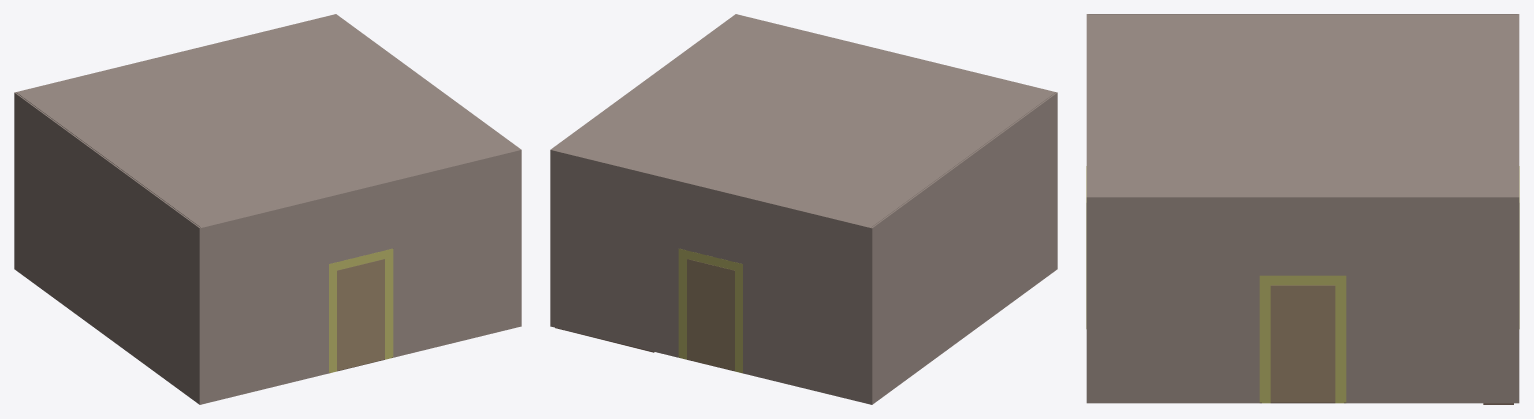
File: Room23_GameRoom.fbx
3 views of the same model, side by side, from view 1: azimuth 30°, elevation 25°; view 2: azimuth 150°, elevation 25°; view 3: azimuth 270°, elevation 25° (orthographic). The views are drawn at different scales.
Parts seen in each view (by area): view 1: Roof, WallSlicedPosZ, WallPosX, DoorPosZ, DoorFramePosZ, WallSlicedNegX; view 2: Roof, WallSlicedNegZ, WallPosX, DoorNegZ, DoorFrameNegZ, WallSlicedNegX; view 3: WallSlicedNegX, Roof, DoorNegX, DoorFrameNegX, WallSlicedNegZ, WallSlicedPosZ, WallPosX.
Boxes of the visible parts, x1,y1,x2,y2 form: Roof: (17, 15, 519, 227); WallSlicedPosZ: (200, 149, 521, 404); WallPosX: (14, 92, 201, 404); DoorPosZ: (337, 259, 384, 370); DoorFramePosZ: (329, 248, 393, 372); WallSlicedNegX: (336, 14, 521, 326); Roof: (552, 15, 1054, 227); WallSlicedNegZ: (550, 149, 871, 404); WallPosX: (871, 92, 1057, 404); DoorNegZ: (687, 259, 734, 370); DoorFrameNegZ: (678, 248, 742, 372); WallSlicedNegX: (550, 14, 735, 326); WallSlicedNegX: (1086, 196, 1519, 403); Roof: (1088, 15, 1517, 196); DoorNegX: (1270, 285, 1335, 402); DoorFrameNegX: (1259, 275, 1346, 403); WallSlicedNegZ: (1516, 14, 1519, 403); WallSlicedPosZ: (1086, 14, 1089, 403); WallPosX: (1087, 14, 1518, 14).
Bounding box in the file's own units: 100 × 53.31 × 100.
